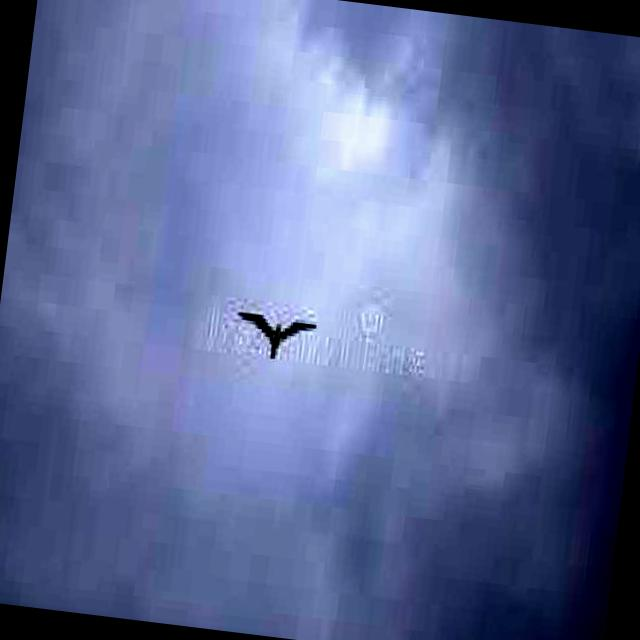bird: (230, 303, 320, 366)
